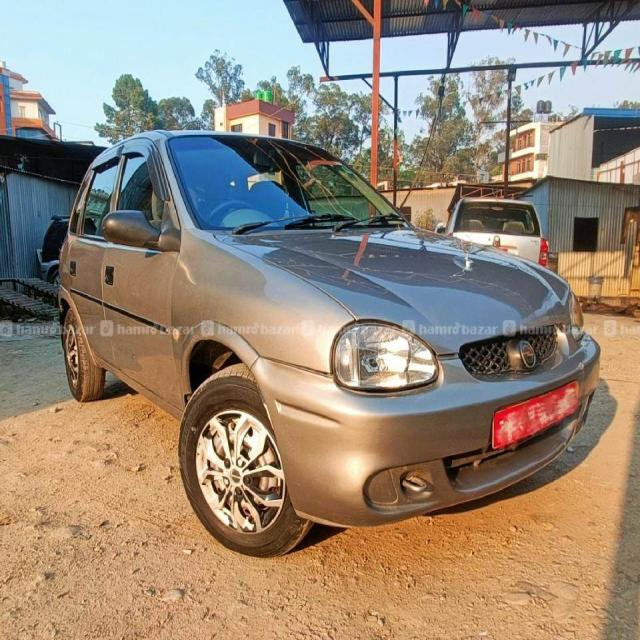License-plate: (482, 380, 594, 452)
